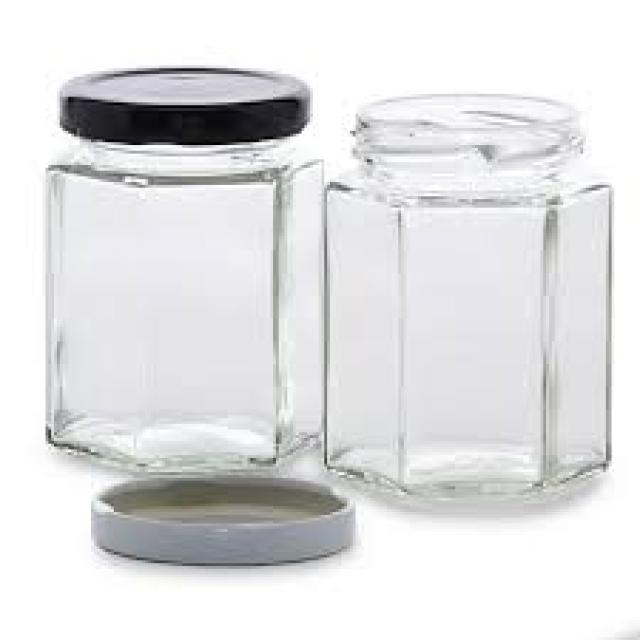glass: (322, 94, 612, 495), (40, 131, 321, 469)
metal: (88, 470, 350, 561), (57, 63, 307, 145)
